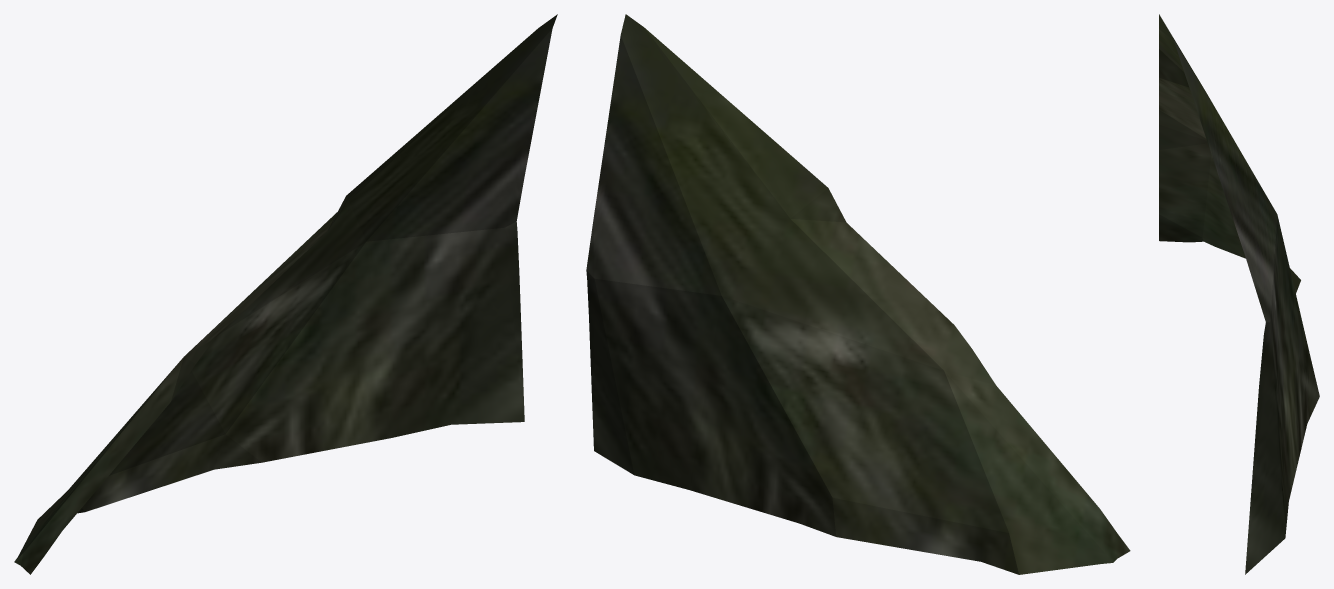
The picture shows the model from 3 angles, left to right: view 1: azimuth 30°, elevation 25°; view 2: azimuth 150°, elevation 25°; view 3: azimuth 270°, elevation 25°; orthographic projection. The views are drawn at different scales.
Size of the model in its own units: 1.43 by 1.12 by 0.2908.
Materials: 1 (1 with a texture image).
